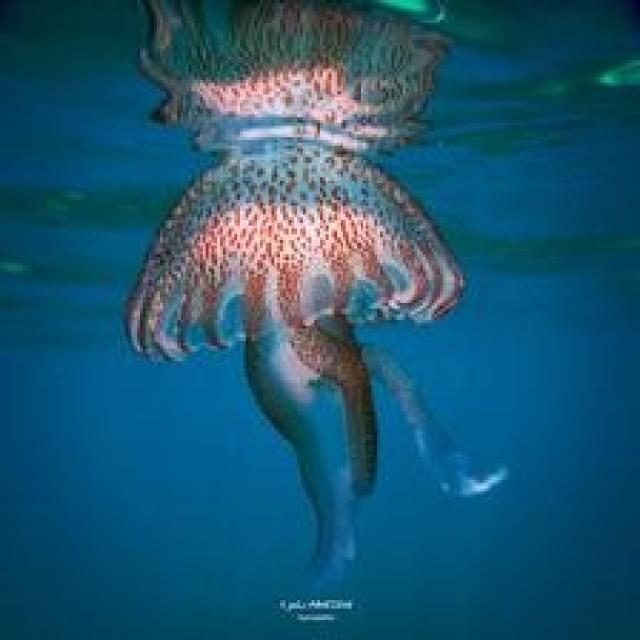Jellyfish: (118, 0, 507, 591)
